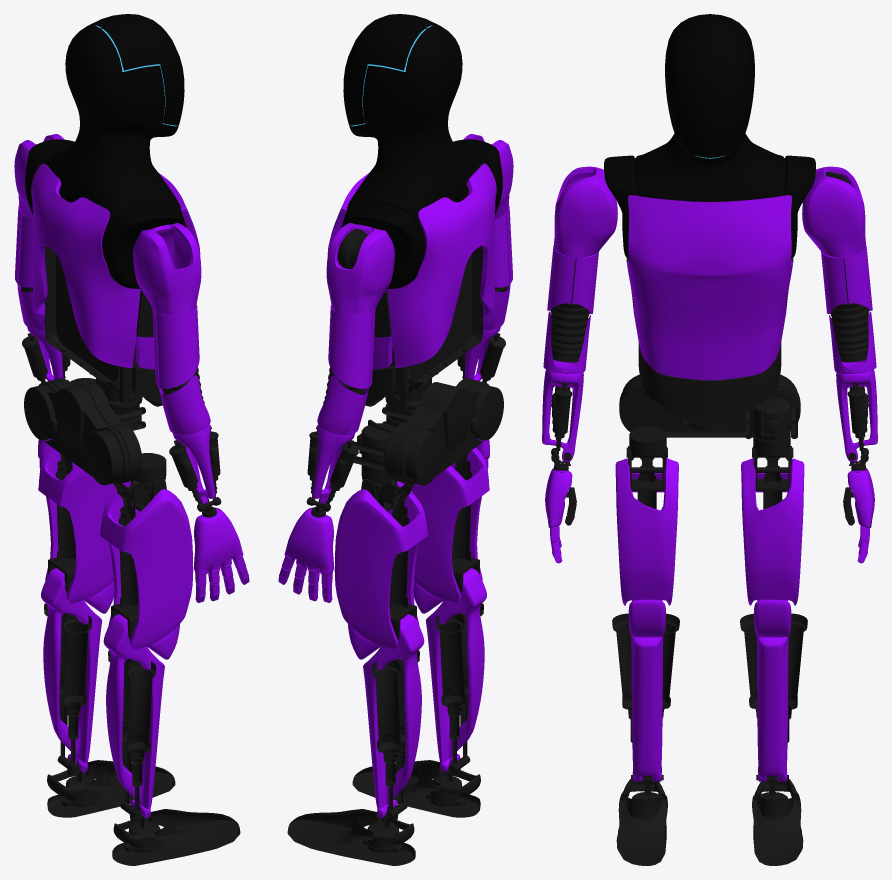
The model's file is psilocybot.glb.
3 renders of one model, left to right at view 1: azimuth 30°, elevation 25°; view 2: azimuth 150°, elevation 25°; view 3: azimuth 270°, elevation 25°, orthographic.
Parts seen in each view (by area): view 1: Cube.001; view 2: Cube.001; view 3: Cube.001.
Boxes of the visible parts, x1,y1,x2,y2 form: Cube.001: (14,14,249,865); Cube.001: (278,14,513,865); Cube.001: (542,14,877,865).
Bounding box in the file's own units: 0.3406 × 1.7 × 0.6396.
